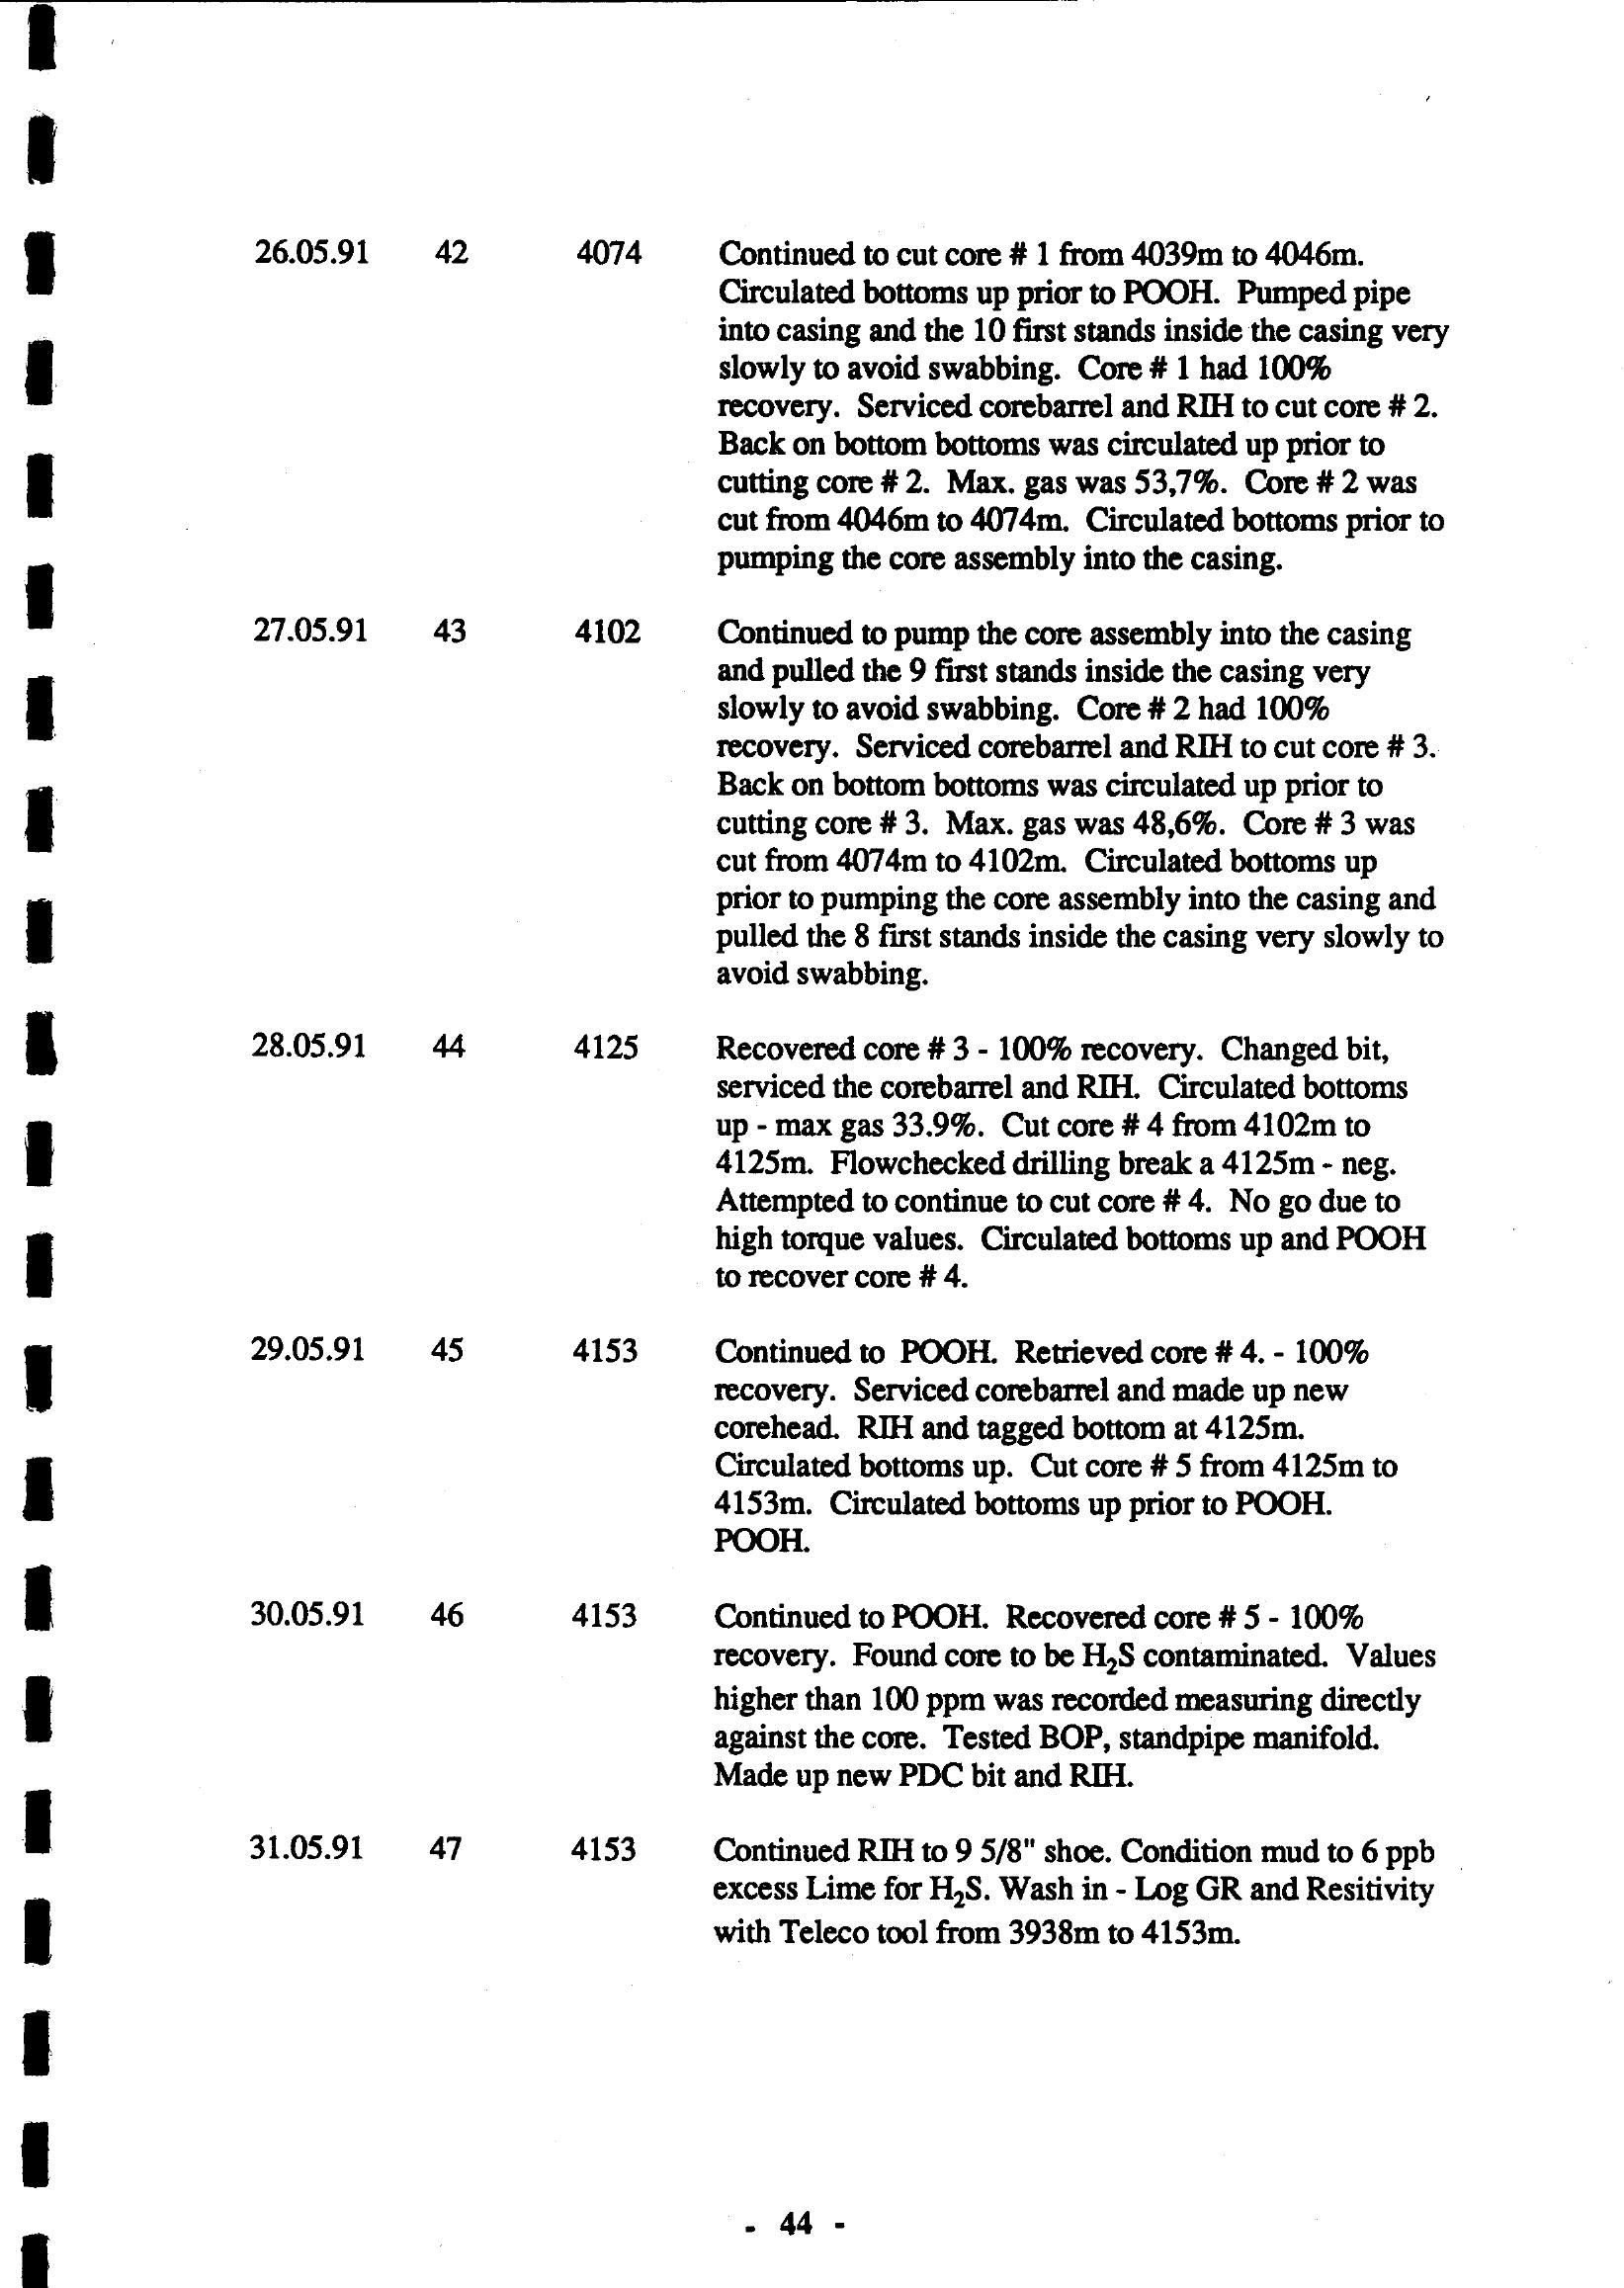text: (186, 170, 1492, 2058)
